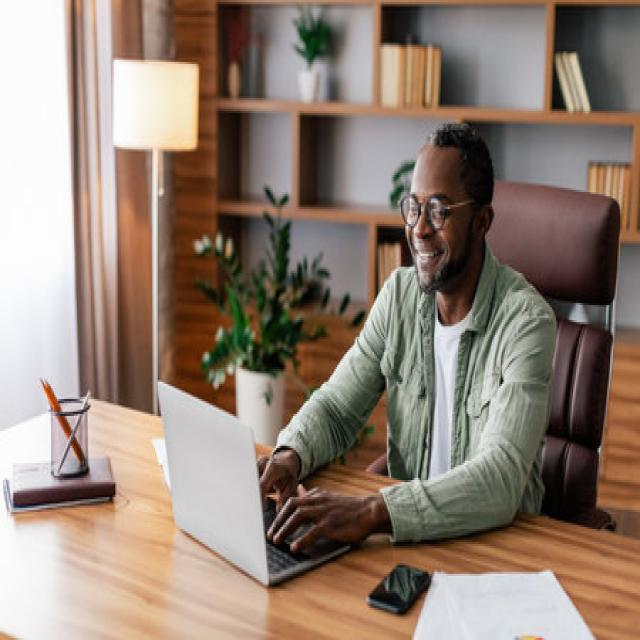notebook-person: (147, 108, 562, 594)
